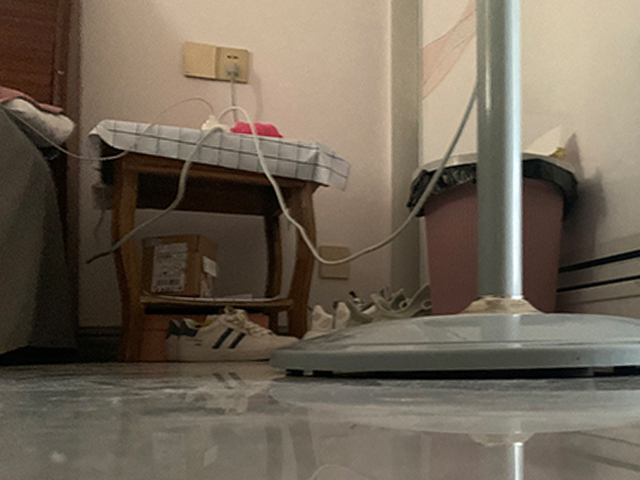table: (89, 119, 325, 365)
wire: (159, 55, 269, 168)
